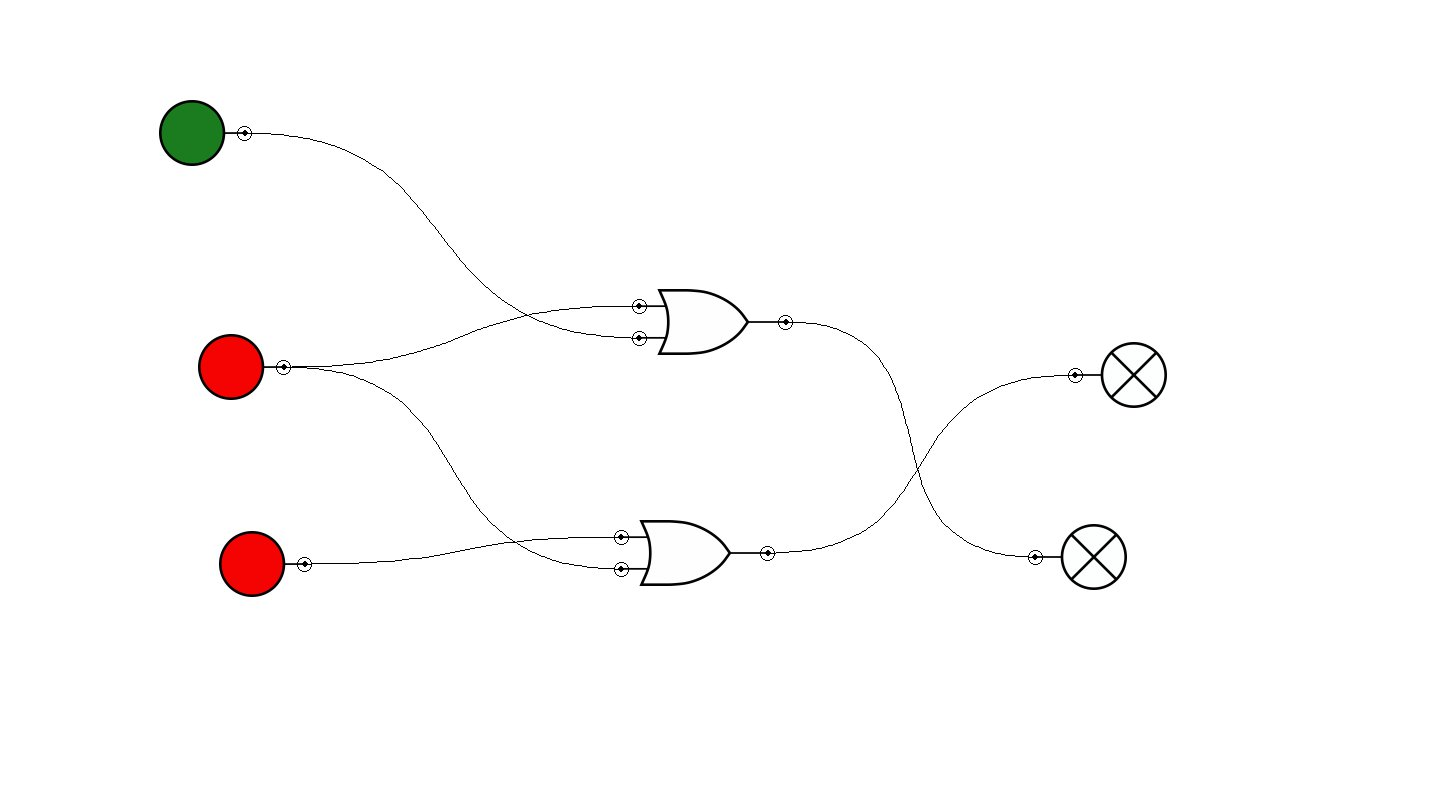bulb: (1028, 524, 1127, 590), (1068, 342, 1167, 408)
or: (614, 520, 775, 586), (632, 289, 793, 355)
switch_False: (198, 334, 291, 400), (219, 531, 312, 597)
switch_True: (159, 100, 252, 166)
